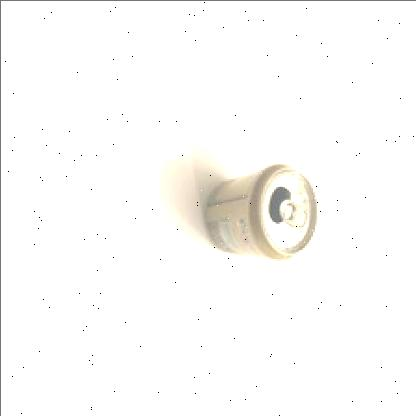Can: (191, 152, 332, 281)
